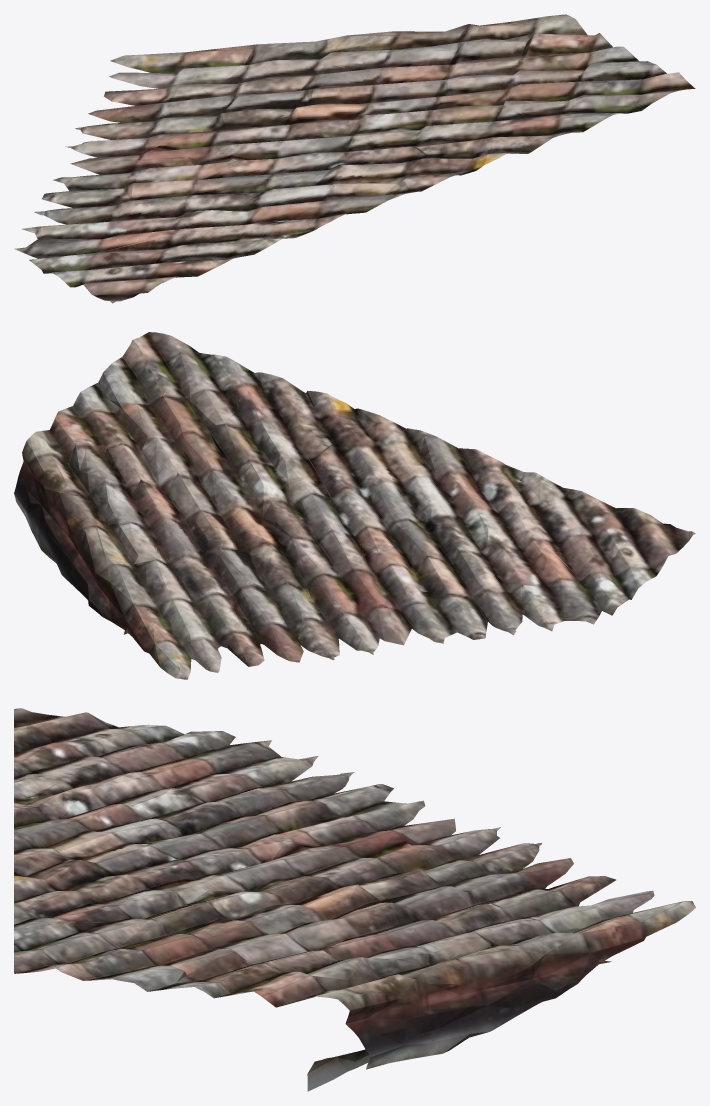
The picture shows the model from 3 angles, top to bottom: view 1: azimuth 30°, elevation 25°; view 2: azimuth 150°, elevation 25°; view 3: azimuth 270°, elevation 25°; orthographic projection. The views are drawn at different scales.
Size of the model in its own units: 3.35 by 0.543 by 2.72.
Materials: 2 (2 with a texture image).
